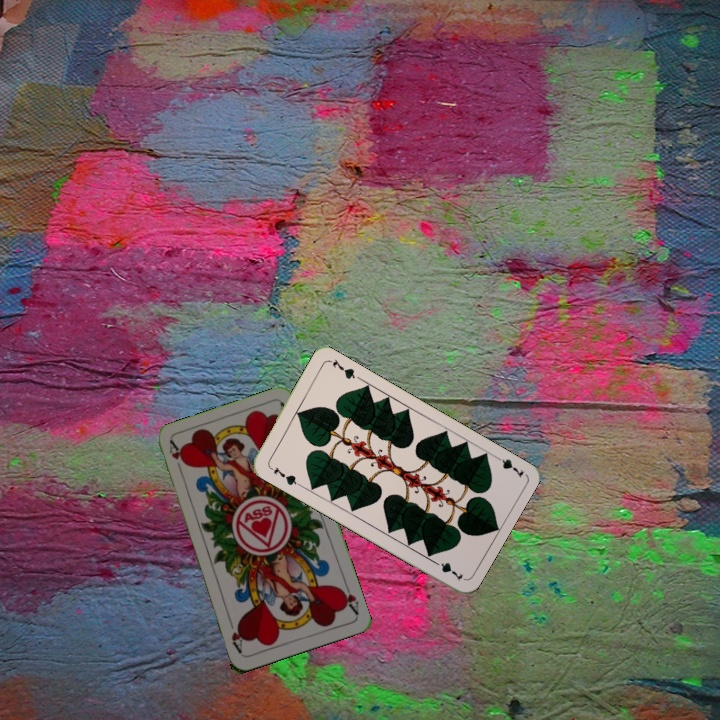G7: (489, 451, 527, 480), (265, 461, 302, 488)
HA: (335, 578, 361, 617), (165, 437, 186, 477)
